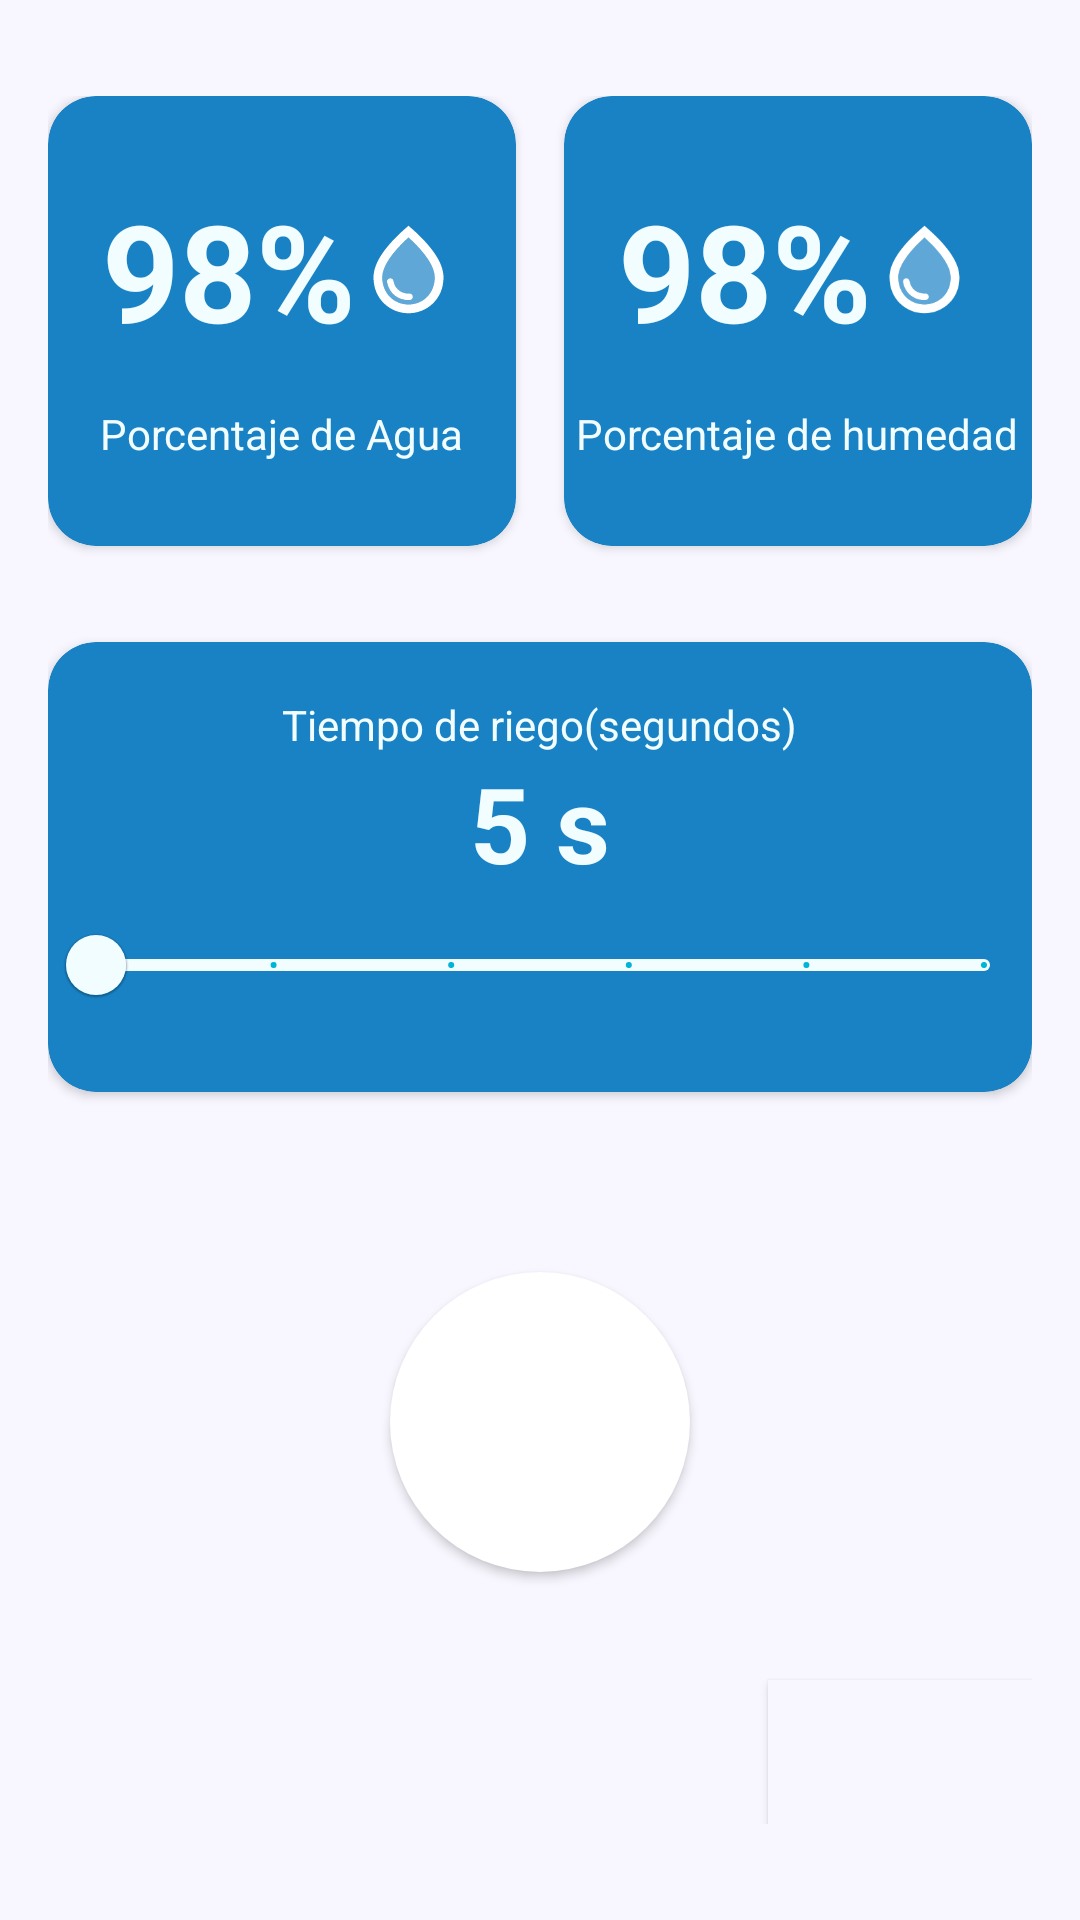

Where icons sit on this 1080 × 1920 app screen, as (x1, y1, x2, y2):
water drop: (373, 225, 444, 314), (889, 226, 960, 314)
